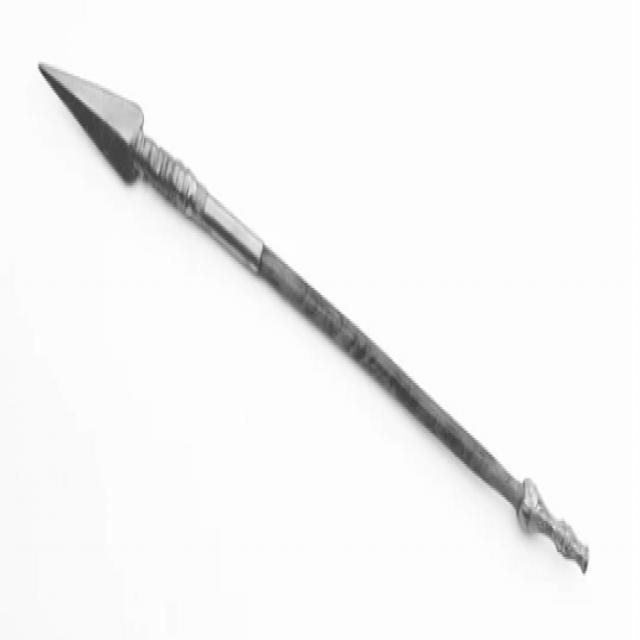spear: (23, 37, 596, 580)
